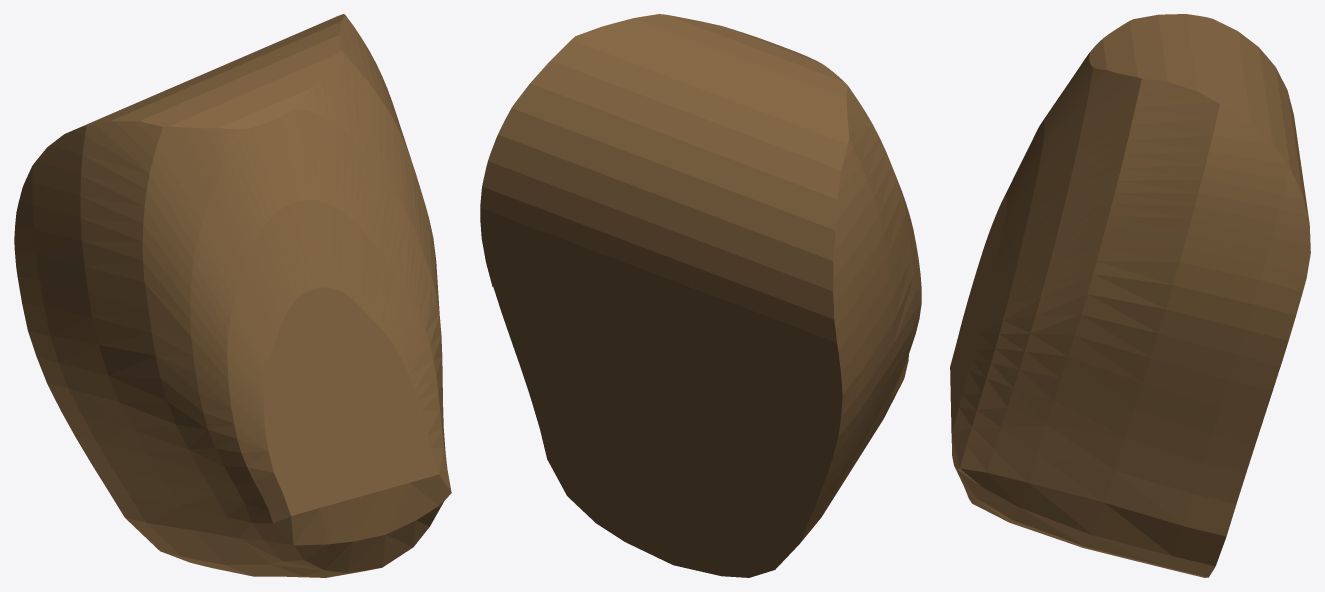
Rendered from LMrot_joint_visu.dae.
3 renders of one model, left to right at view 1: azimuth 30°, elevation 25°; view 2: azimuth 150°, elevation 25°; view 3: azimuth 270°, elevation 25°, orthographic.
Parts seen in each view (by area): view 1: node; view 2: node; view 3: node.
Part boxes in pixels (x1,y1,x2,y2): node: [14, 14, 451, 577]; node: [480, 14, 921, 577]; node: [950, 14, 1310, 577].
Bounding box in the file's own units: 0.0536 × 0.0758 × 0.0482.
